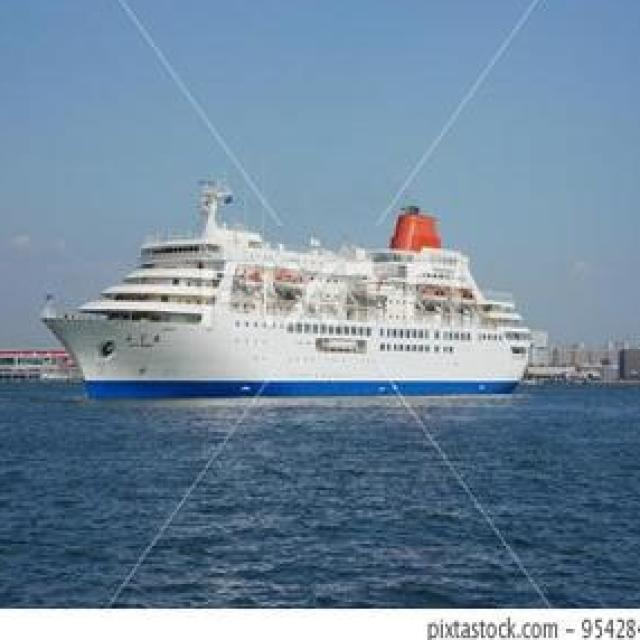passenger ship: (39, 176, 534, 400)
